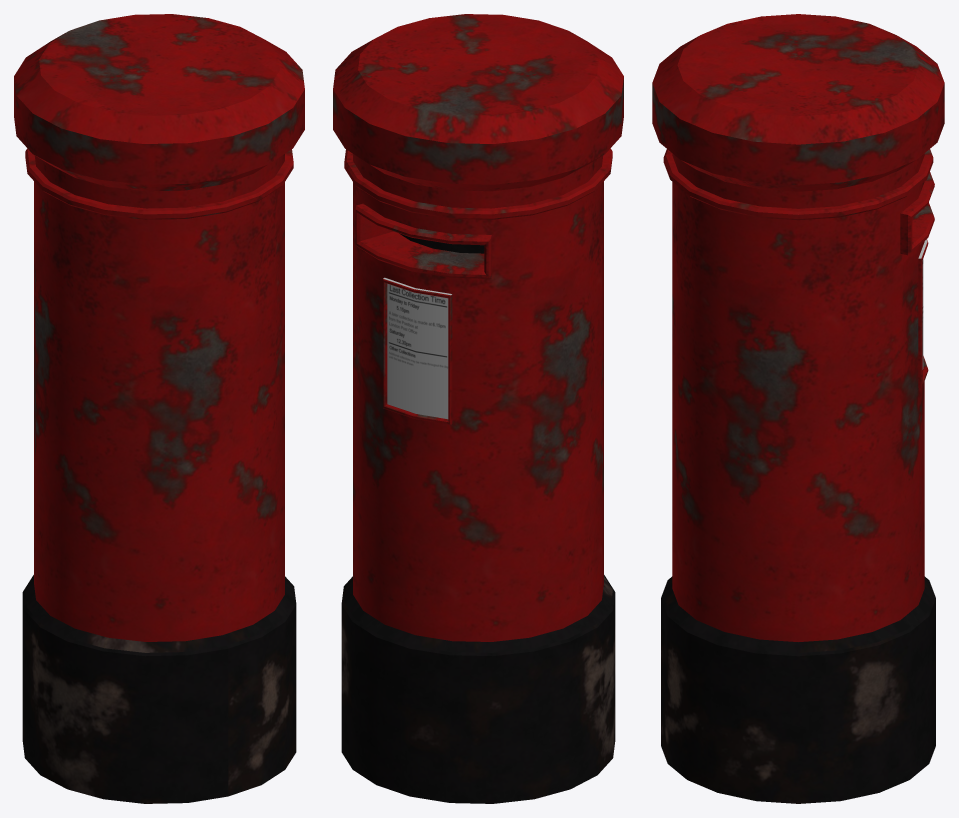
File: red_post_box.glb
3 renders of one model, left to right at view 1: azimuth 30°, elevation 25°; view 2: azimuth 150°, elevation 25°; view 3: azimuth 270°, elevation 25°, orthographic.
Parts seen in each view (by area): view 1: g; view 2: g; view 3: g.
Part boxes in pixels (x1,y1,x2,y2): g: [14, 14, 304, 803]; g: [333, 14, 623, 803]; g: [652, 14, 944, 803].
Size of the model in its own units: 0.7784 by 2 by 0.7784.
Materials: 1 (1 with a texture image).
